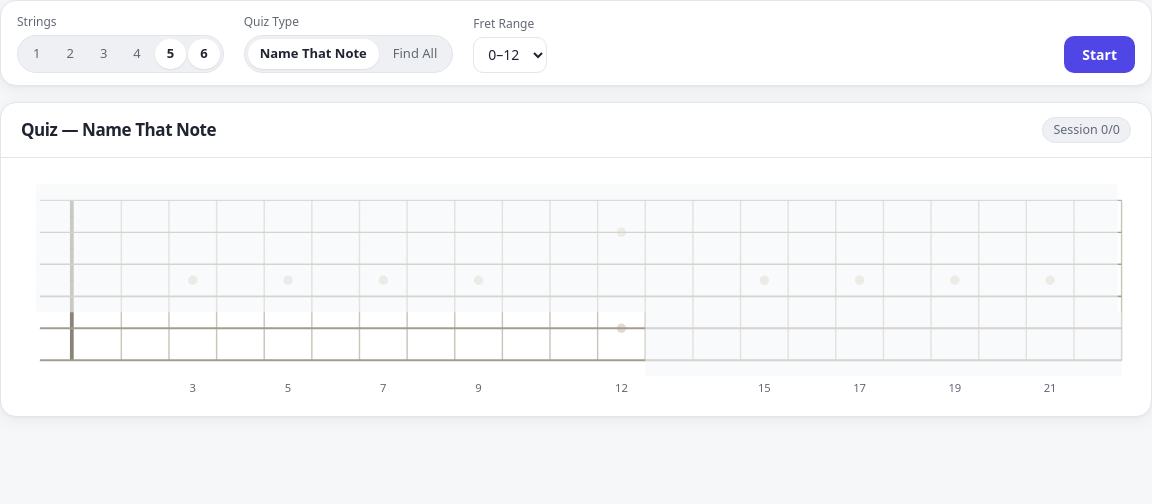
Scenario: Quiz — 이 음은? › shows a question mark and four choices after start
Click the button "Start": (1100, 54) [1064,36,1135,72]
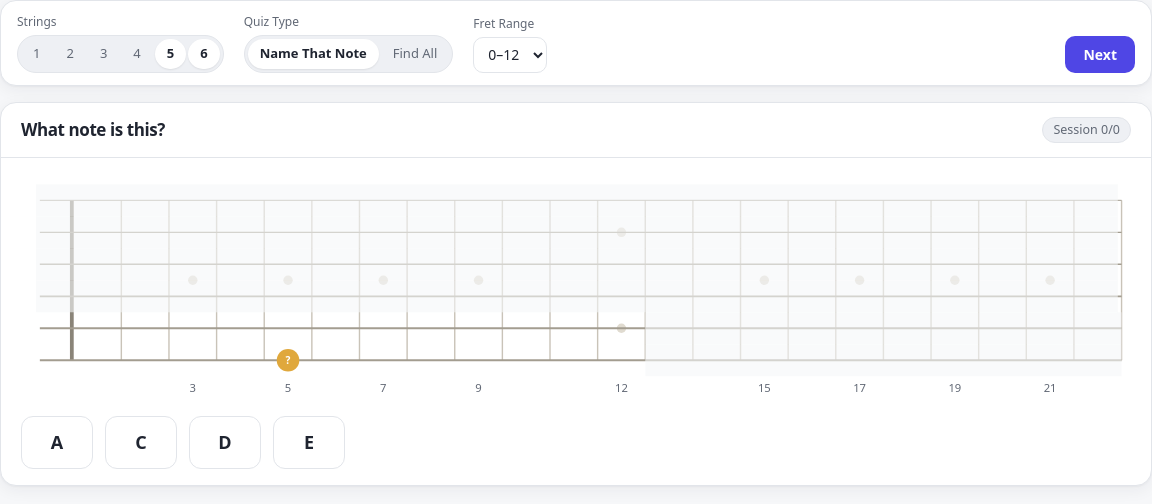
Now the number of buttons with class "choice" is 4, box [21,416,93,469]; [105,416,177,469]; [189,416,261,469]; [273,416,345,469]
